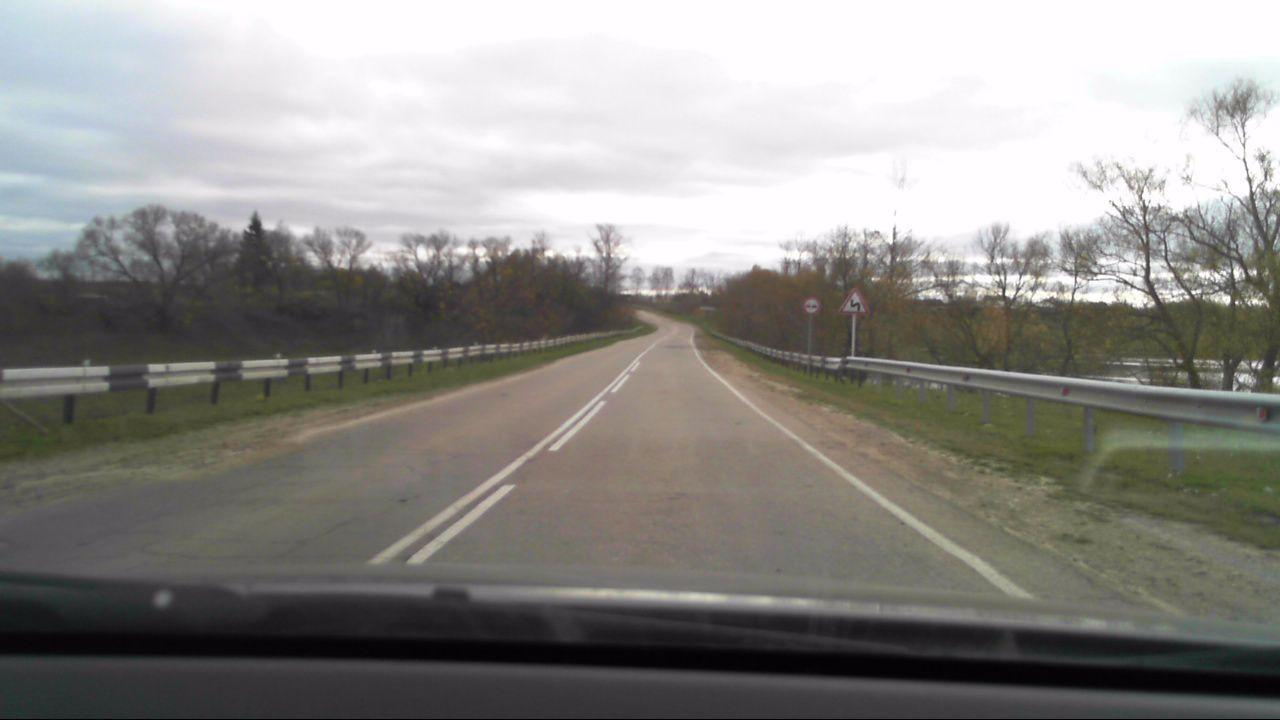1_12_2: (840, 287, 866, 314)
3_20: (803, 296, 820, 314)
